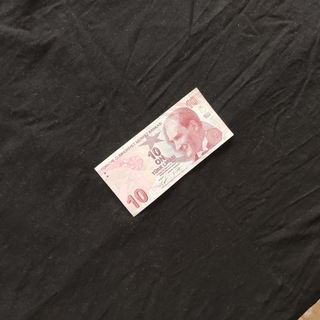10TLFront: (92, 85, 235, 219)
